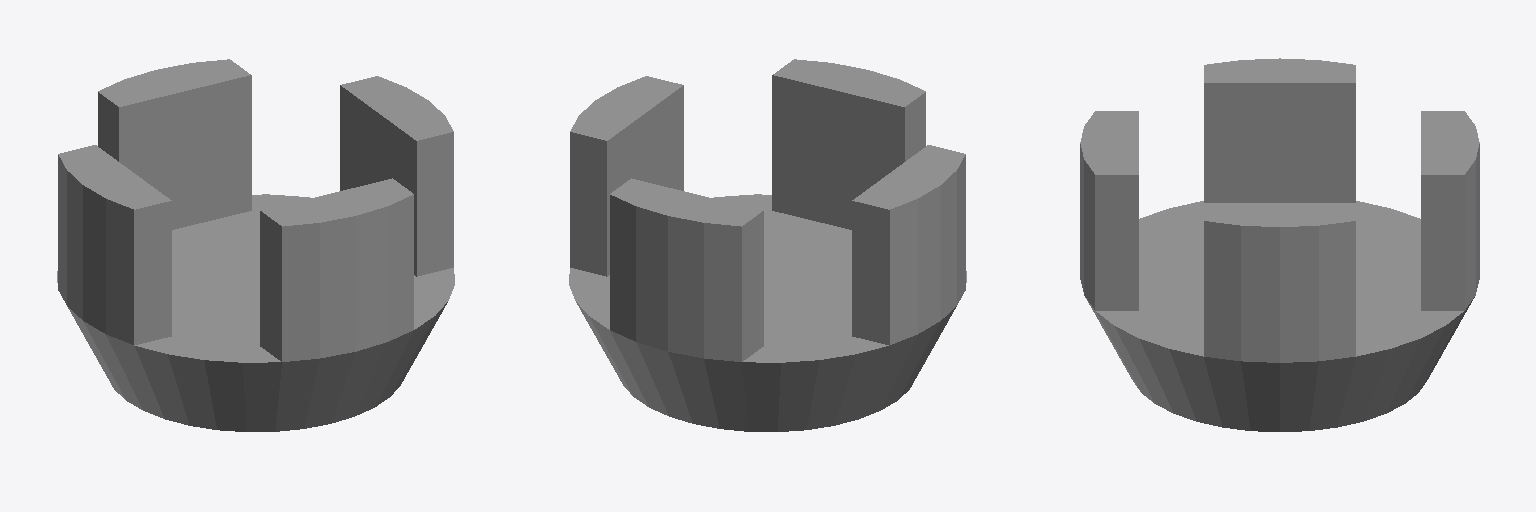
File: Gripper.obj
3 views of the same model, side by side, from view 1: azimuth 30°, elevation 25°; view 2: azimuth 150°, elevation 25°; view 3: azimuth 270°, elevation 25° (orthographic).
Parts seen in each view (by area): view 1: Cylinder; view 2: Cylinder; view 3: Cylinder.
Part boxes in pixels (x1,y1,x2,y2): Cylinder: (57,59,454,431); Cylinder: (569,59,966,431); Cylinder: (1080,58,1479,431).
Size of the model in its own units: 0.4 by 0.25 by 0.4.